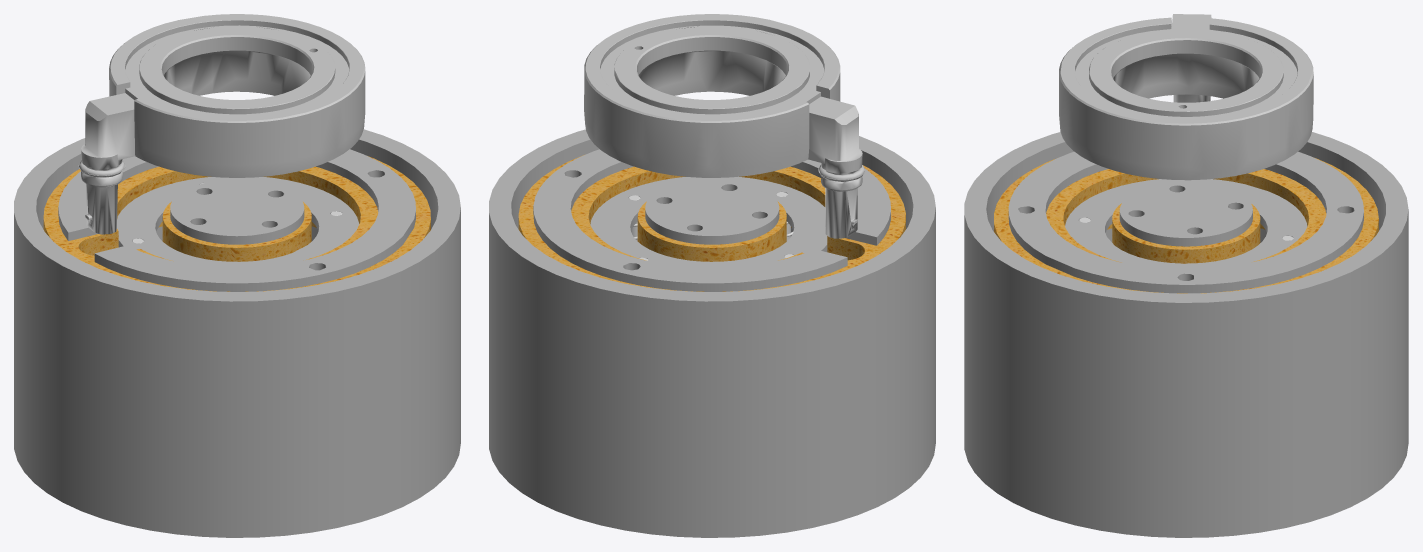
Rendered from oiling-tool.glb.
3 renders of one model, left to right at view 1: azimuth 30°, elevation 25°; view 2: azimuth 150°, elevation 25°; view 3: azimuth 270°, elevation 25°, orthographic.
Parts seen in each view (by area): view 1: Design 2 Holder-1, ASM Coil_0065596_05-1, Outer Ring Press-1, Sponge Outer-1, Inner Ring Press-1, Spring Plate-1, Sponge Inner-1; view 2: Design 2 Holder-1, ASM Coil_0065596_05-1, Outer Ring Press-1, Sponge Outer-1, Inner Ring Press-1, Spring Plate-1, Sponge Inner-1; view 3: Design 2 Holder-1, ASM Coil_0065596_05-1, Outer Ring Press-1, Sponge Outer-1, Inner Ring Press-1, Spring Plate-1, Sponge Inner-1.
Boxes of the visible parts, box(x1,y1,x2,y2) form: Design 2 Holder-1: box(14, 129, 460, 537); ASM Coil_0065596_05-1: box(78, 14, 365, 234); Outer Ring Press-1: box(58, 149, 415, 291); Sponge Outer-1: box(43, 156, 430, 291); Inner Ring Press-1: box(170, 179, 304, 244); Spring Plate-1: box(117, 177, 359, 267); Sponge Inner-1: box(162, 201, 311, 261); Design 2 Holder-1: box(489, 129, 935, 537); ASM Coil_0065596_05-1: box(584, 14, 864, 238); Outer Ring Press-1: box(533, 149, 890, 291); Sponge Outer-1: box(518, 155, 905, 291); Inner Ring Press-1: box(645, 179, 779, 244); Spring Plate-1: box(590, 176, 827, 267); Sponge Inner-1: box(637, 201, 786, 261); Design 2 Holder-1: box(964, 132, 1408, 537); ASM Coil_0065596_05-1: box(1059, 14, 1313, 180); Outer Ring Press-1: box(1008, 151, 1363, 293); Sponge Outer-1: box(994, 158, 1378, 293); Inner Ring Press-1: box(1119, 181, 1252, 246); Spring Plate-1: box(1065, 179, 1307, 269); Sponge Inner-1: box(1112, 203, 1260, 263).
Bounding box in the file's own units: 0.1499 × 0.1392 × 0.1499.
5 materials, 1 textured.
